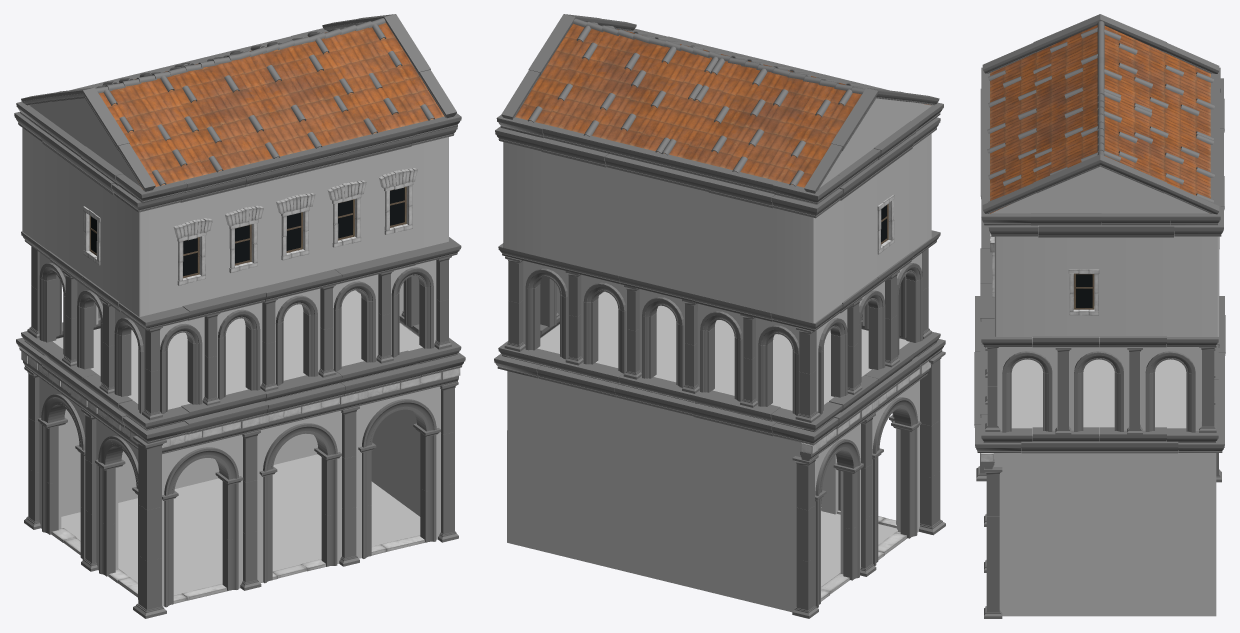
The model's file is SM_insulae_building_06.fbx.
3 views of the same model, side by side, from view 1: azimuth 30°, elevation 25°; view 2: azimuth 150°, elevation 25°; view 3: azimuth 270°, elevation 25° (orthographic). The views are drawn at different scales.
Parts seen in each view (by area): view 1: Object32709; view 2: Object32709; view 3: Object32709.
Boxes of the visible parts, bbox=[...] form: Object32709: bbox=[14, 14, 465, 618]; Object32709: bbox=[494, 14, 945, 618]; Object32709: bbox=[974, 14, 1225, 618].
Bounding box in the file's own units: 452 × 647 × 321.
